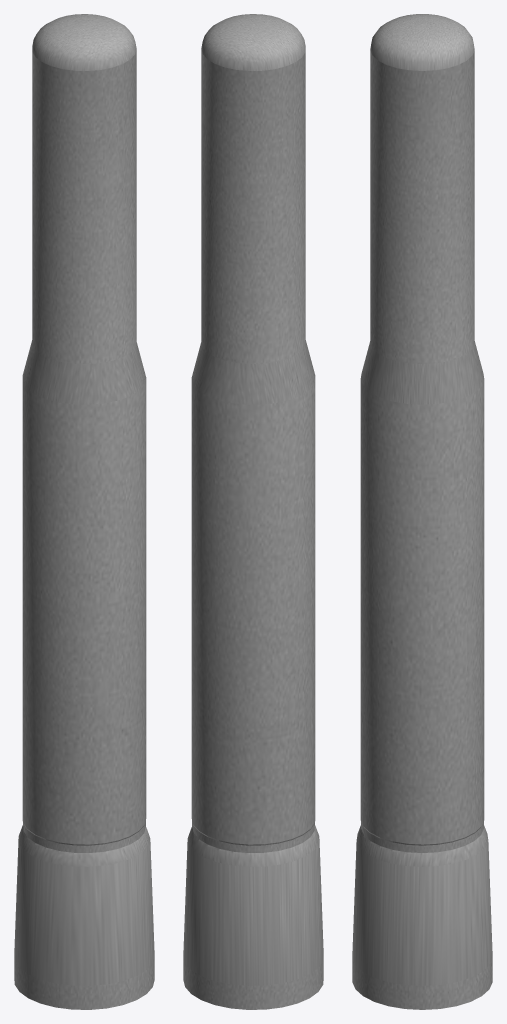
Rendered from body.glb.
3 views of the same model, side by side, from view 1: azimuth 30°, elevation 25°; view 2: azimuth 150°, elevation 25°; view 3: azimuth 270°, elevation 25° (orthographic).
Parts seen in each view (by area): view 1: body; view 2: body; view 3: body.
Boxes of the visible parts, left/top/right/bottom form: body: left=14, top=14, right=154, bottom=1009; body: left=183, top=14, right=323, bottom=1009; body: left=352, top=14, right=492, bottom=1009.
Bounding box in the file's own units: 7.48 × 56.26 × 7.5.
1 material, 1 textured.
